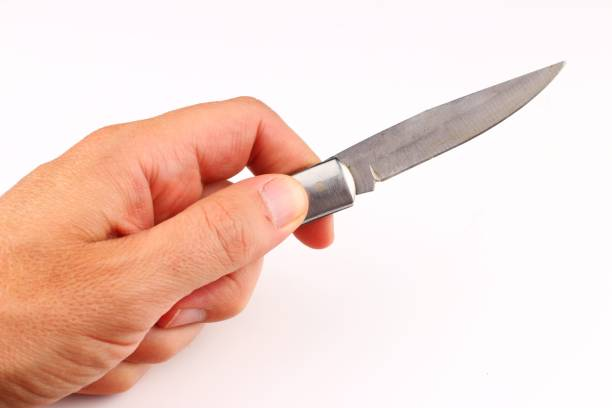knife: (285, 59, 570, 225)
